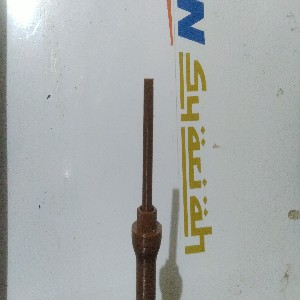obeng: (131, 76, 163, 300)
